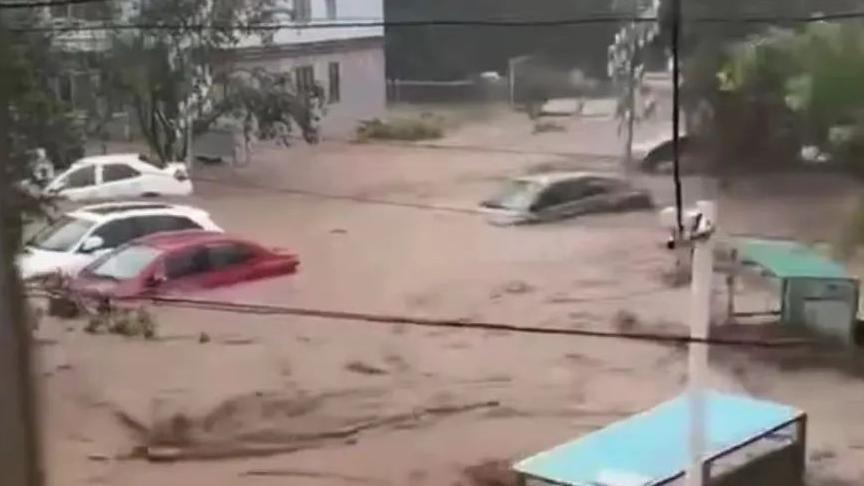water: (29, 295, 863, 485), (166, 102, 691, 336), (679, 172, 863, 276), (633, 100, 672, 157)
